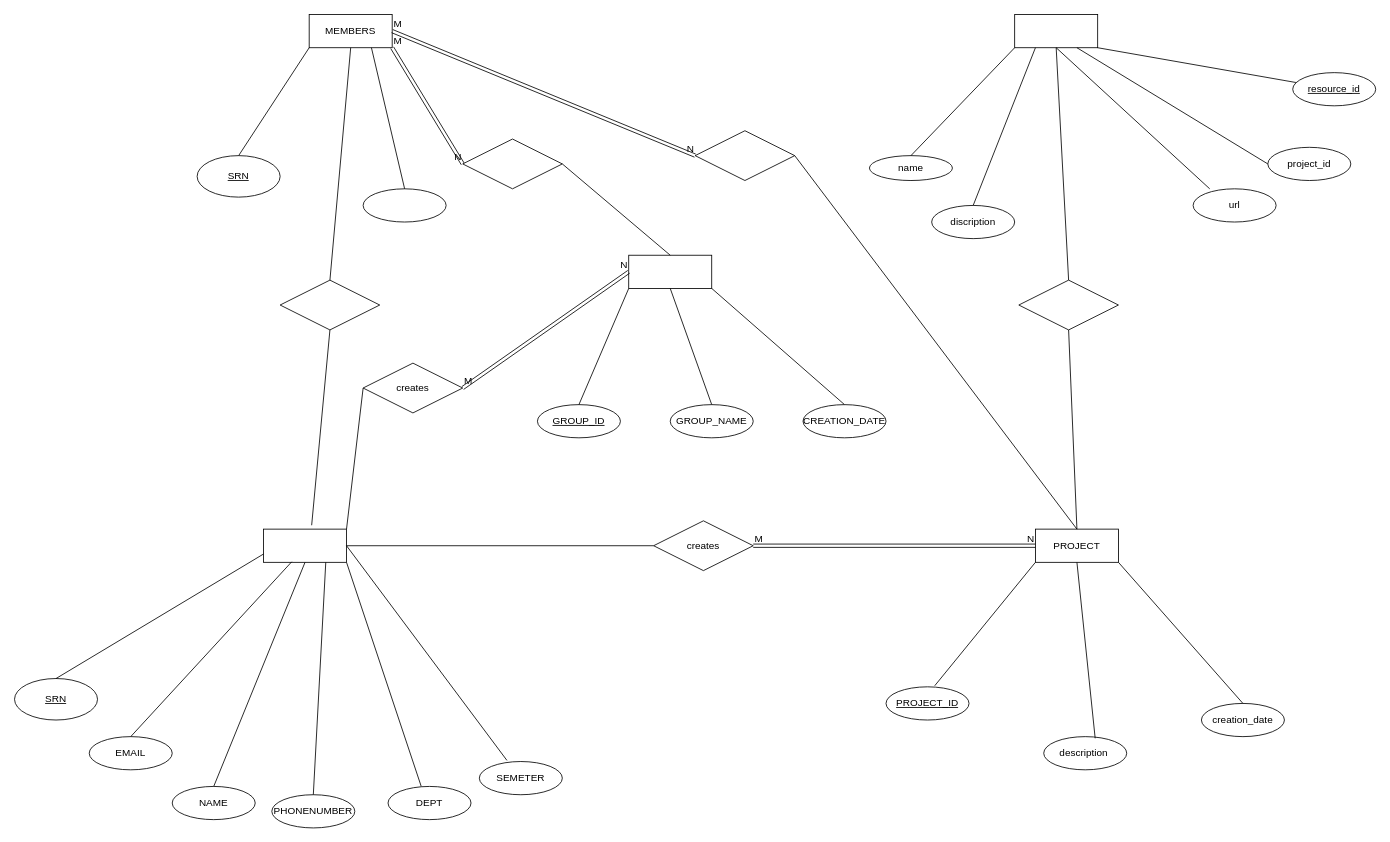
The diagram is 1390 pixels wide and 842 high, and some of its shapes have lost their labels. The shapes that lost their labels are listed below. From the top down, each one's box as (x1, y1, x2, y2) in pixels, then its label:
(1014, 14, 1098, 48): RESOURCE
(462, 138, 562, 189): join
(694, 130, 795, 181): work on
(362, 188, 446, 222): ROLE
(628, 254, 712, 288): STUDY_GROUP
(279, 279, 380, 330): gets premissions or rights from
(1018, 279, 1118, 330): required for
(263, 528, 347, 562): USER
